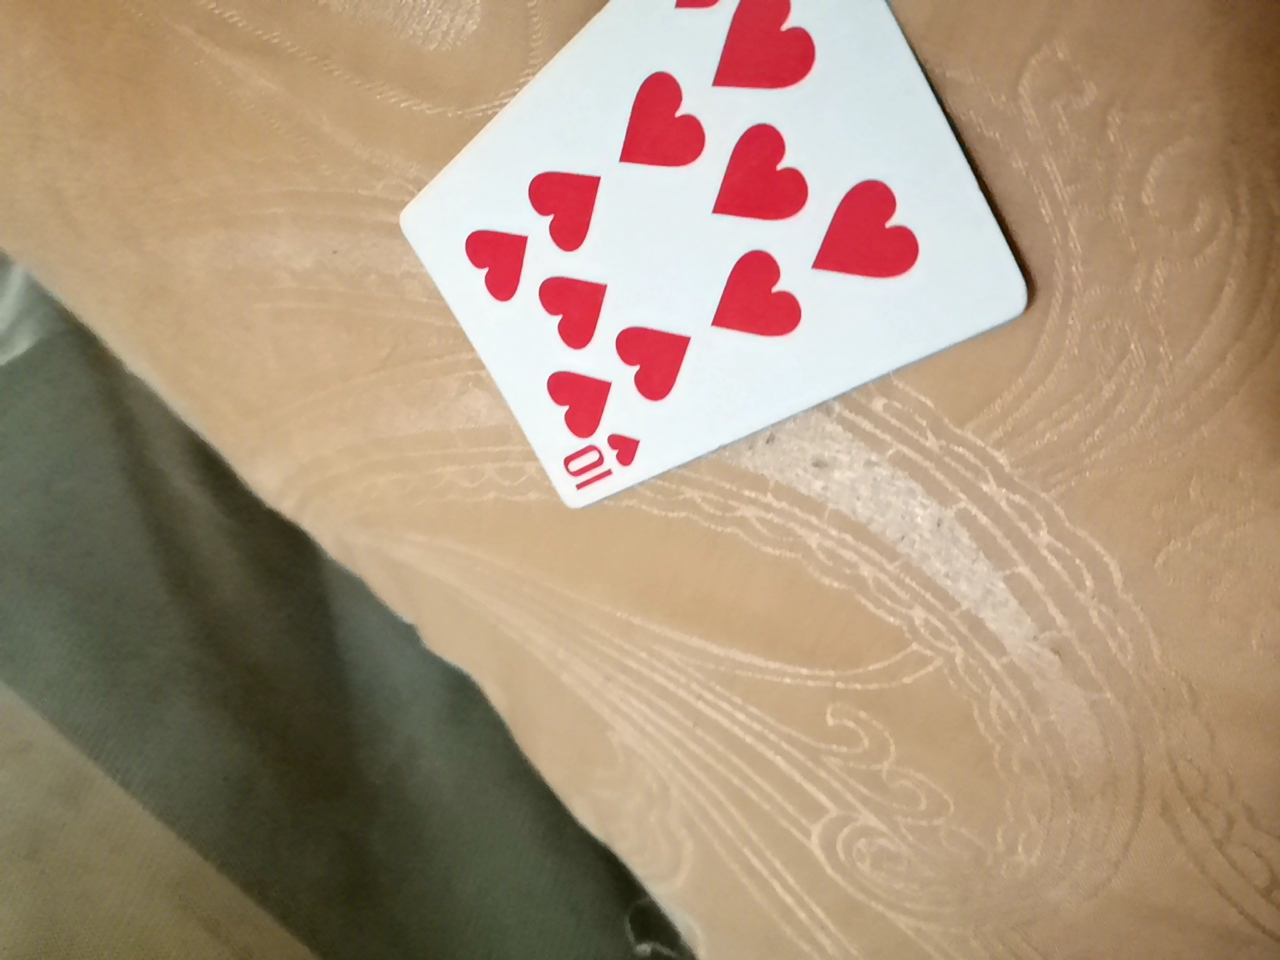hx 10: (385, 0, 1017, 523)
